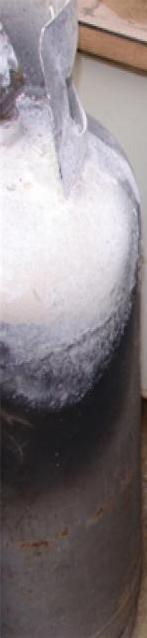cylinder: (1, 1, 147, 638)
